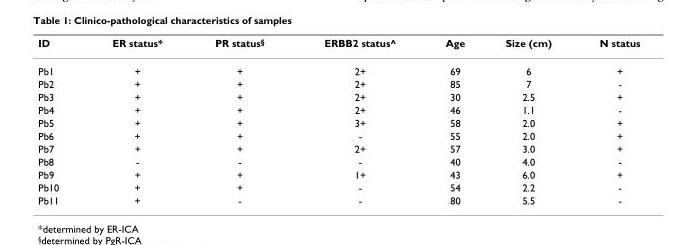table: (37, 36, 639, 206)
table column: (293, 36, 420, 206), (188, 36, 293, 206), (84, 36, 188, 206), (484, 36, 574, 206), (574, 36, 639, 206), (420, 36, 484, 206), (37, 36, 84, 206)
table column header: (37, 36, 639, 56)
table row: (37, 56, 639, 77), (37, 36, 639, 56), (37, 77, 639, 90), (37, 90, 639, 103), (37, 103, 639, 116), (37, 128, 639, 141), (37, 141, 639, 154), (37, 154, 639, 167), (37, 167, 639, 180), (37, 180, 639, 193), (37, 193, 639, 206), (37, 116, 639, 128)
